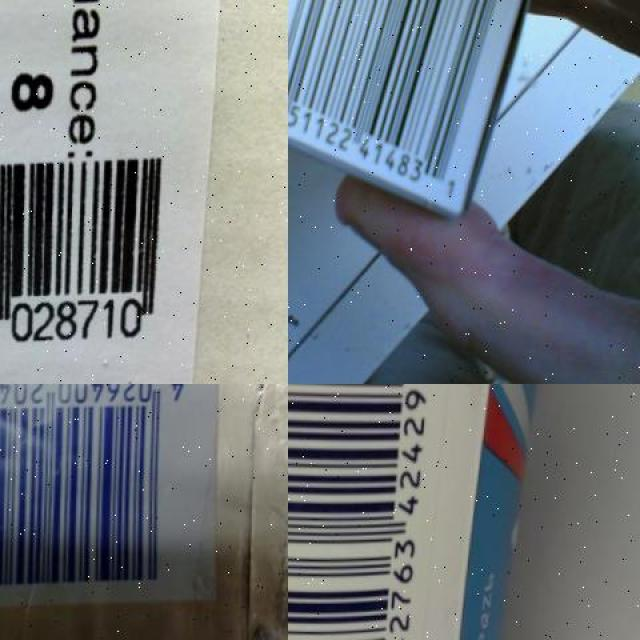Barcode: (288, 0, 526, 225), (0, 384, 208, 609), (0, 145, 184, 384), (288, 384, 444, 640)
